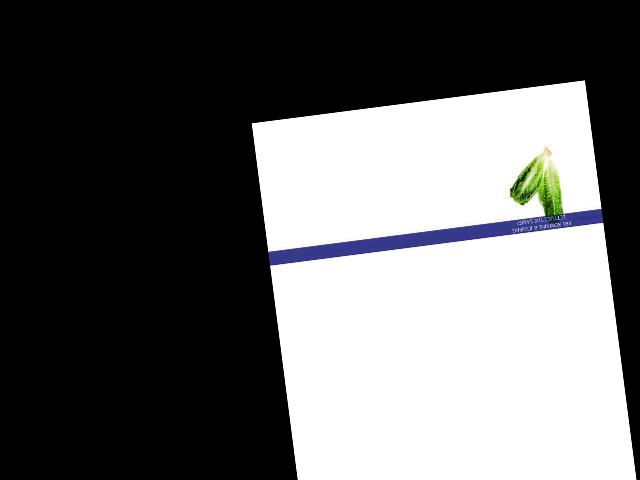lettuce: (505, 146, 560, 210)
